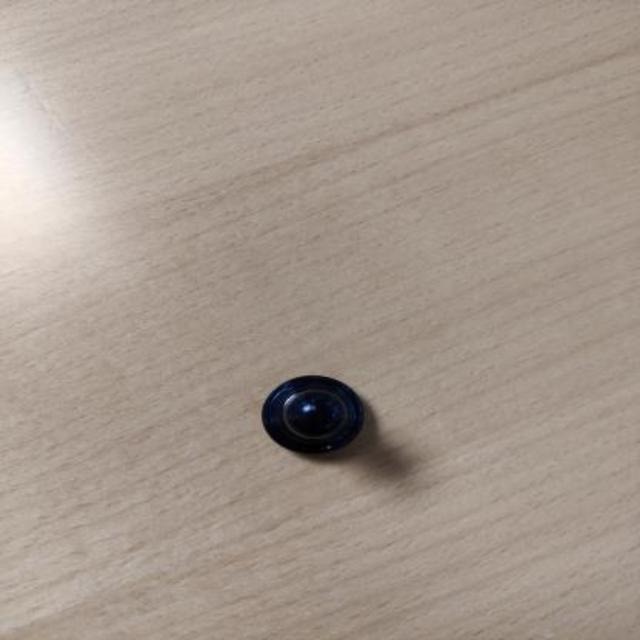black-pawn: (261, 373, 365, 456)
